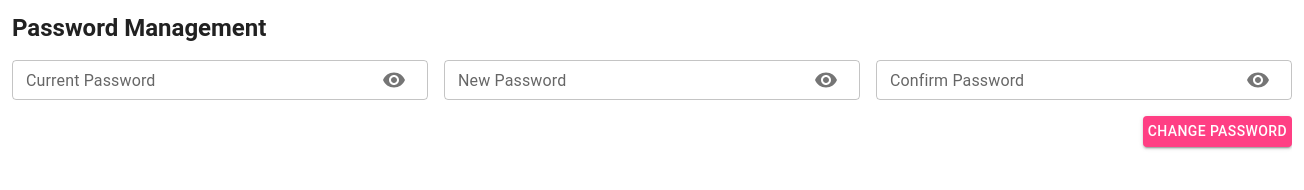
ChangePasswordForm › shows validation errors when submitted empty
Step 1. Click the button "Change Password" → (1217, 131), box [1143, 116, 1292, 146]
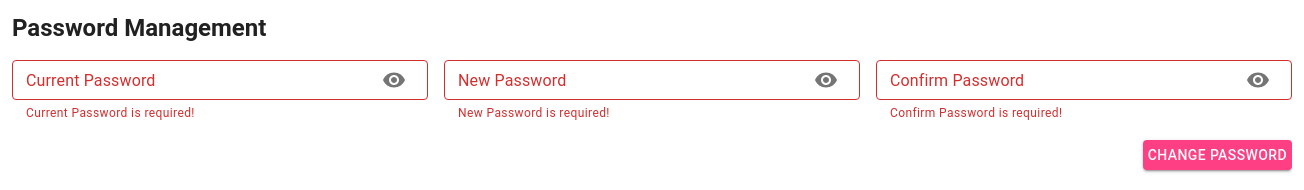
Check: the text "Current Password is required!" is shown, box [26, 106, 195, 120]
Check: the text "New Password is required!" is shown, box [458, 106, 610, 120]
Check: the text "Confirm Password is required!" is shown, box [890, 106, 1062, 120]
